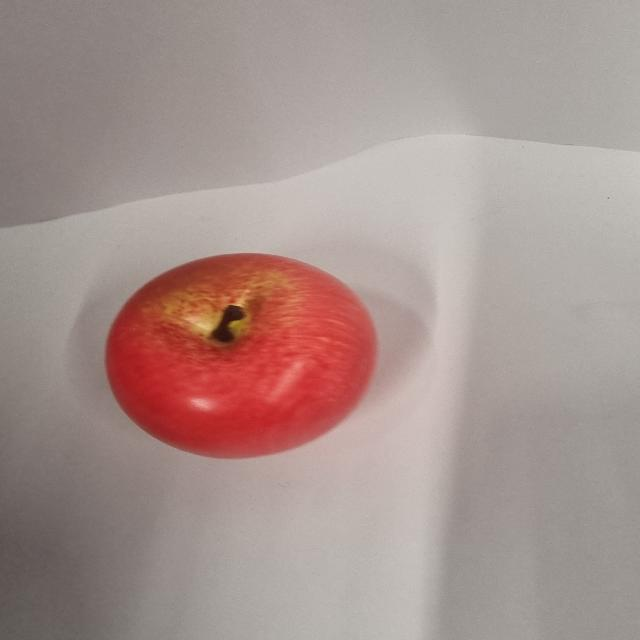apple: (106, 253, 376, 459)
